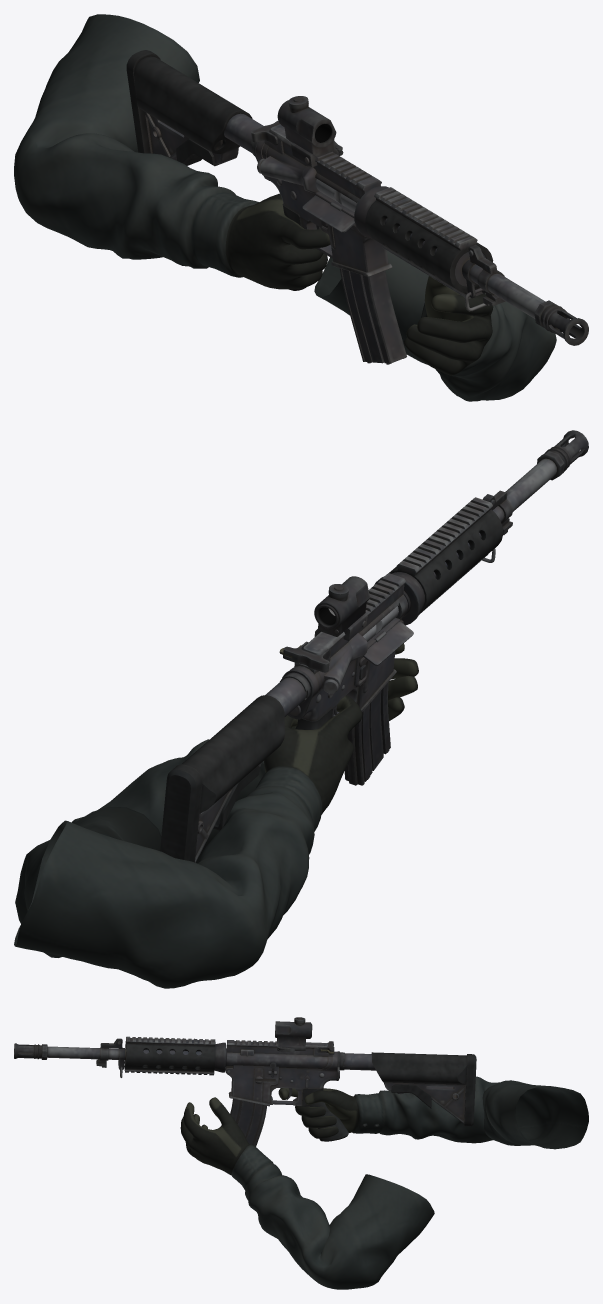
The model's file is carbine_000012.obj.
The picture shows the model from 3 angles, top to bottom: view 1: azimuth 30°, elevation 25°; view 2: azimuth 150°, elevation 25°; view 3: azimuth 270°, elevation 25°; orthographic projection. The views are drawn at different scales.
Visible parts, largest first — view 1: armmesh_arms_0, base_carbine_0, clip_carbine_0, scope_carbine_0, lid_carbine_0; view 2: armmesh_arms_0, base_carbine_0, clip_carbine_0, scope_carbine_0, lid_carbine_0, handle_carbine_0; view 3: armmesh_arms_0, base_carbine_0, clip_carbine_0, scope_carbine_0.
Part boxes in pixels (box(x1,y1,x2,y2)): armmesh_arms_0: box(14, 14, 556, 401); base_carbine_0: box(126, 50, 588, 345); clip_carbine_0: box(339, 268, 406, 364); scope_carbine_0: box(277, 96, 343, 167); lid_carbine_0: box(302, 195, 354, 232); armmesh_arms_0: box(14, 643, 418, 988); base_carbine_0: box(160, 430, 588, 862); clip_carbine_0: box(344, 682, 390, 785); scope_carbine_0: box(314, 576, 369, 640); lid_carbine_0: box(363, 621, 413, 665); handle_carbine_0: box(283, 641, 330, 672); armmesh_arms_0: box(180, 1076, 588, 1289); base_carbine_0: box(14, 1036, 476, 1141); clip_carbine_0: box(230, 1099, 266, 1146); scope_carbine_0: box(275, 1017, 312, 1051).
Bounding box in the file's own units: 51.84 × 50.25 × 126.
Materials: 3 (3 with a texture image).
